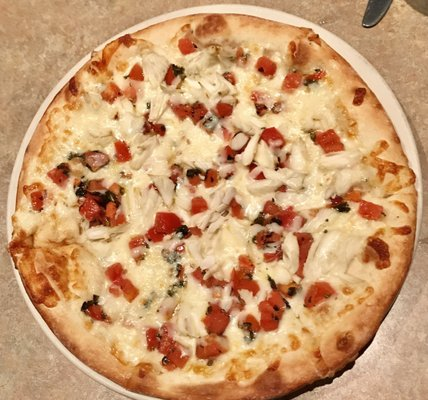sandwich: (5, 8, 427, 393)
